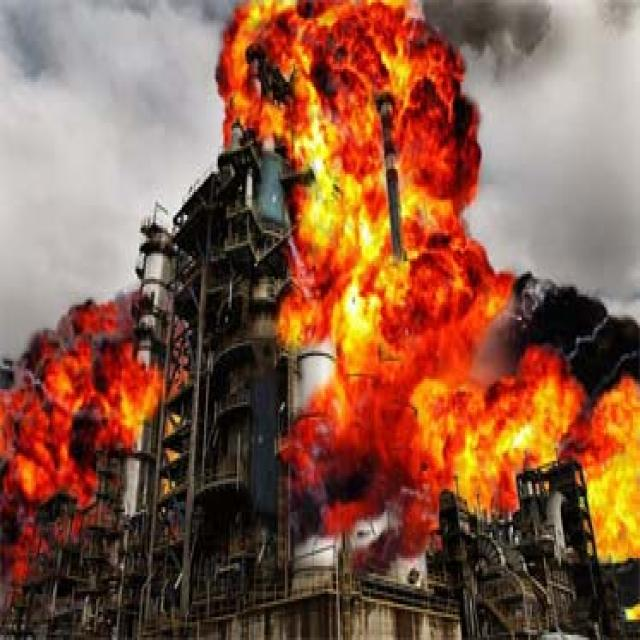fire: (245, 24, 476, 318), (409, 342, 640, 556), (0, 294, 180, 528)
